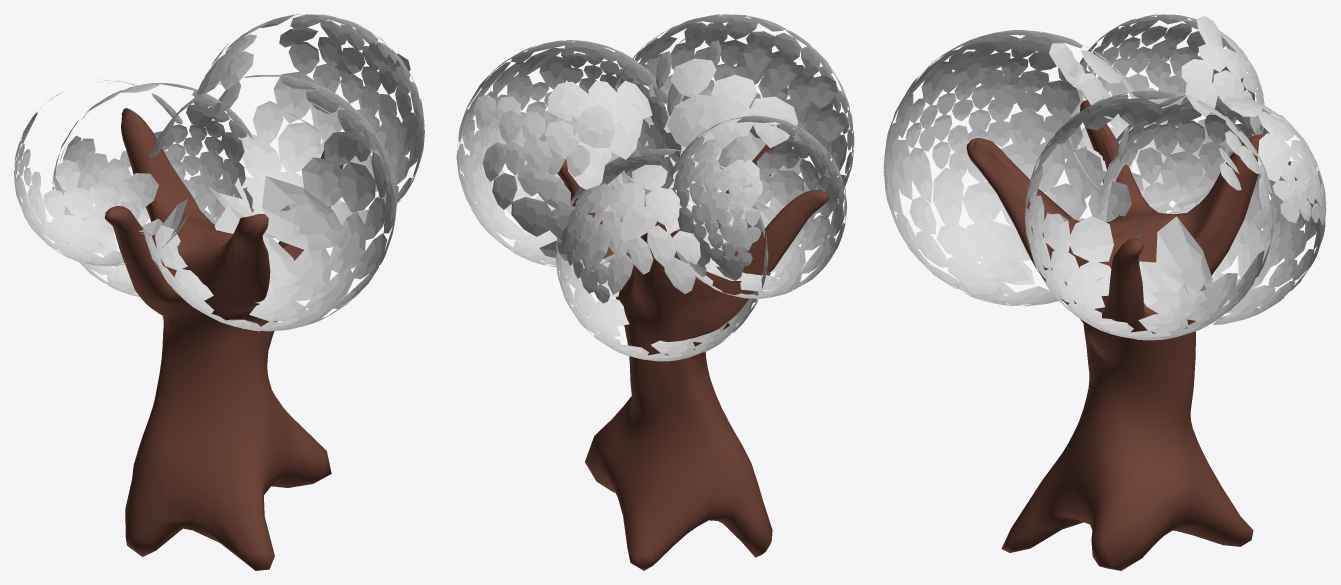
File: tree2.glb
3 renders of one model, left to right at view 1: azimuth 30°, elevation 25°; view 2: azimuth 150°, elevation 25°; view 3: azimuth 270°, elevation 25°, orthographic. The views are drawn at different scales.
Parts seen in each view (by area): view 1: leaves, trunk; view 2: leaves, trunk; view 3: leaves, trunk.
Part boxes in pixels (box(x1,y1,x2,y2)): leaves: box(14, 14, 424, 331); trunk: box(105, 108, 343, 570); leaves: box(456, 14, 854, 361); trunk: box(557, 144, 829, 570); leaves: box(883, 14, 1326, 340); trunk: box(966, 100, 1264, 570).
Bounding box in the file's own units: 4.71 × 5.77 × 4.45.
1 material, 1 textured.
